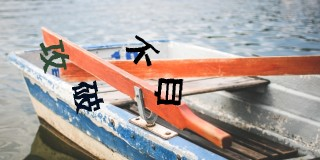不: (125, 34, 160, 67)
攻: (39, 39, 69, 73)
破: (72, 80, 104, 115)
自: (155, 76, 183, 106)
